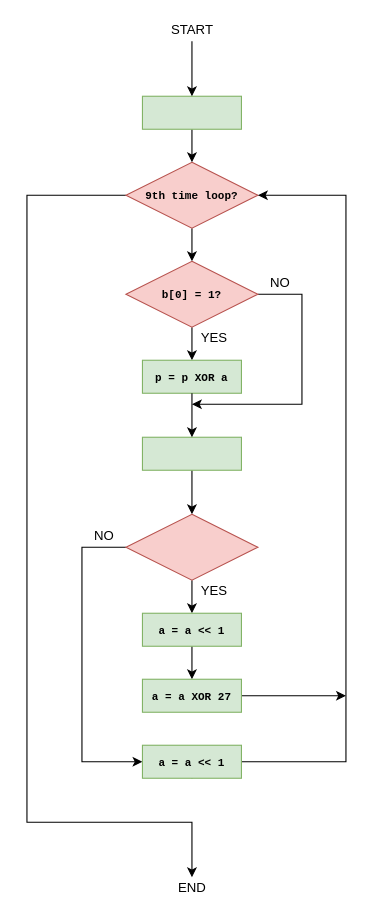
Image size: 374x917. Some labels were removed from this diagram. The centre of each missing label's shape, as x and y in pixels:
"a[7] = 1?" belongs at point (191, 546).
"b = b >> 1" belongs at point (191, 453).
"p = 0" belongs at point (191, 112).
